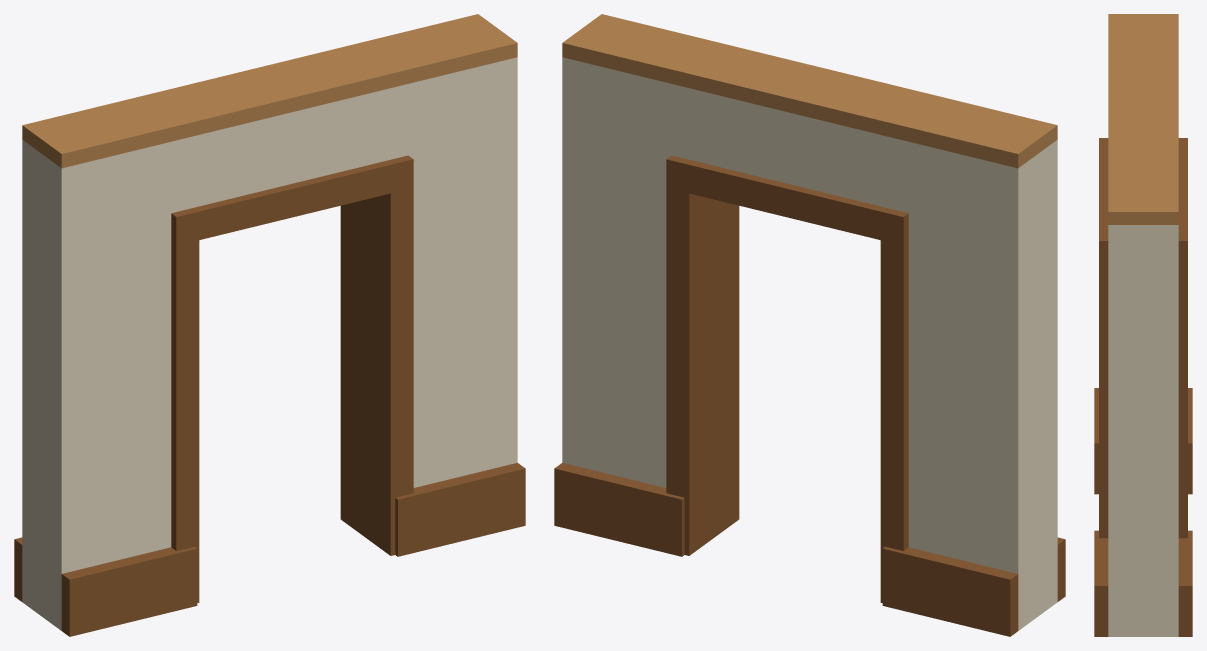
Rendered from wall-door.glb.
3 renders of one model, left to right at view 1: azimuth 30°, elevation 25°; view 2: azimuth 150°, elevation 25°; view 3: azimuth 270°, elevation 25°, orthographic. The views are drawn at different scales.
Parts seen in each view (by area): view 1: wall-door; view 2: wall-door; view 3: wall-door.
Boxes of the visible parts, x1,y1,x2,y2 form: wall-door: (14, 14, 525, 636); wall-door: (554, 14, 1065, 636); wall-door: (1094, 14, 1192, 636).
Bounding box in the file's own units: 1 × 1 × 0.21.
1 material, 1 textured.
